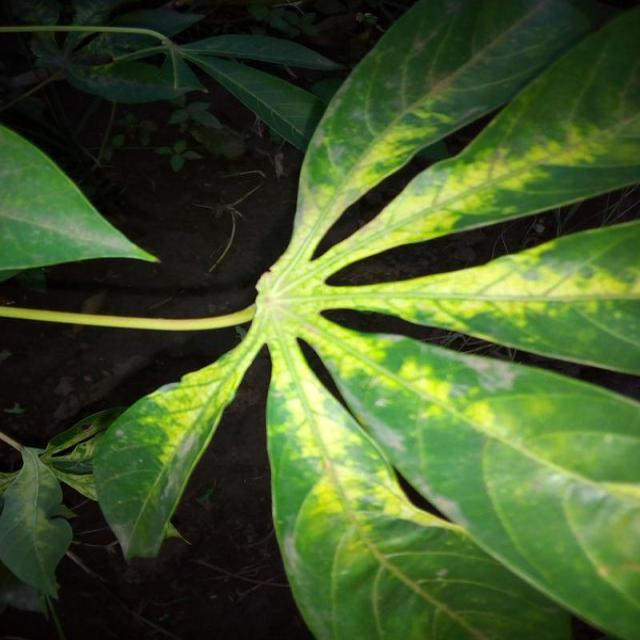cassava leaf: (84, 0, 638, 639), (0, 120, 160, 282)
